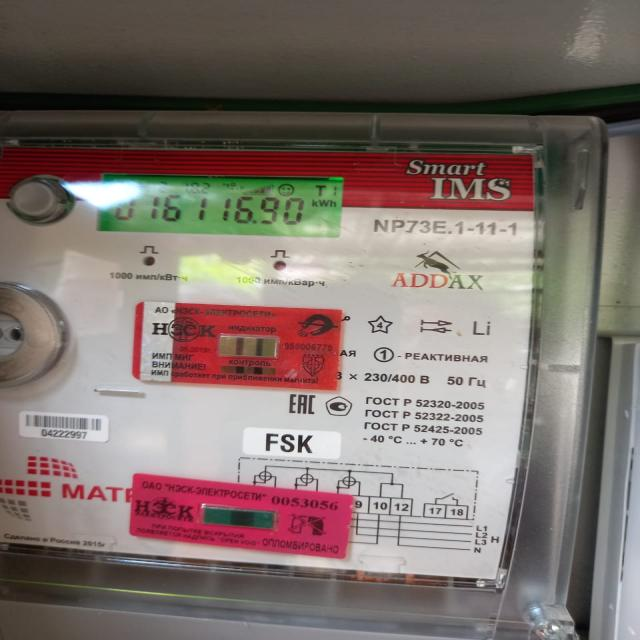Display: (96, 171, 343, 241)
meter_matrica: (0, 138, 555, 620)
meter_number: (13, 411, 111, 443)
seal_imp: (127, 472, 357, 561), (132, 299, 341, 392)
